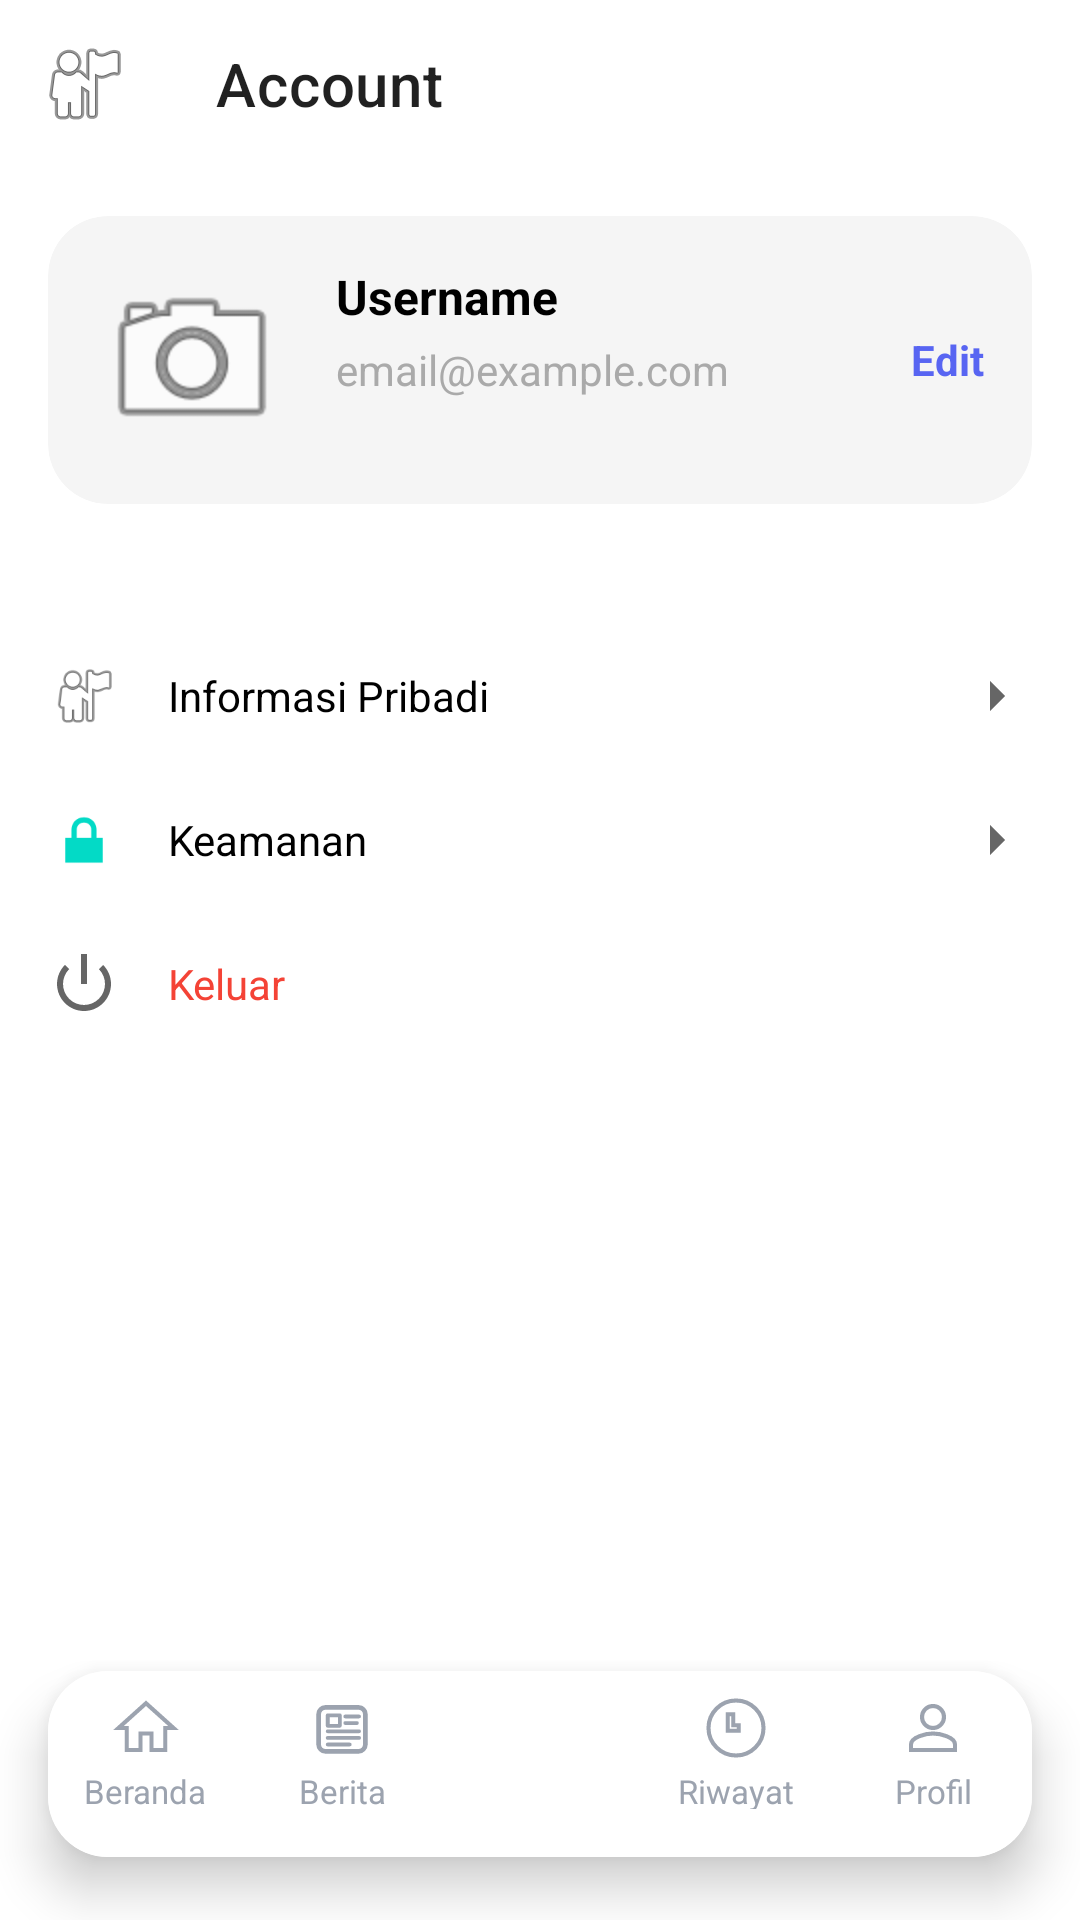

Locate icon controls on the screen. Image size 1080 × 1920, boxes as box(x1, y1, x2, y2).
arrow drop right: box(990, 681, 1005, 711), box(990, 825, 1005, 855)
lock: box(65, 817, 103, 863)
lock power off: box(57, 954, 111, 1011)
myplaces: box(58, 669, 112, 723)
Profile photo: box(118, 298, 266, 416)
